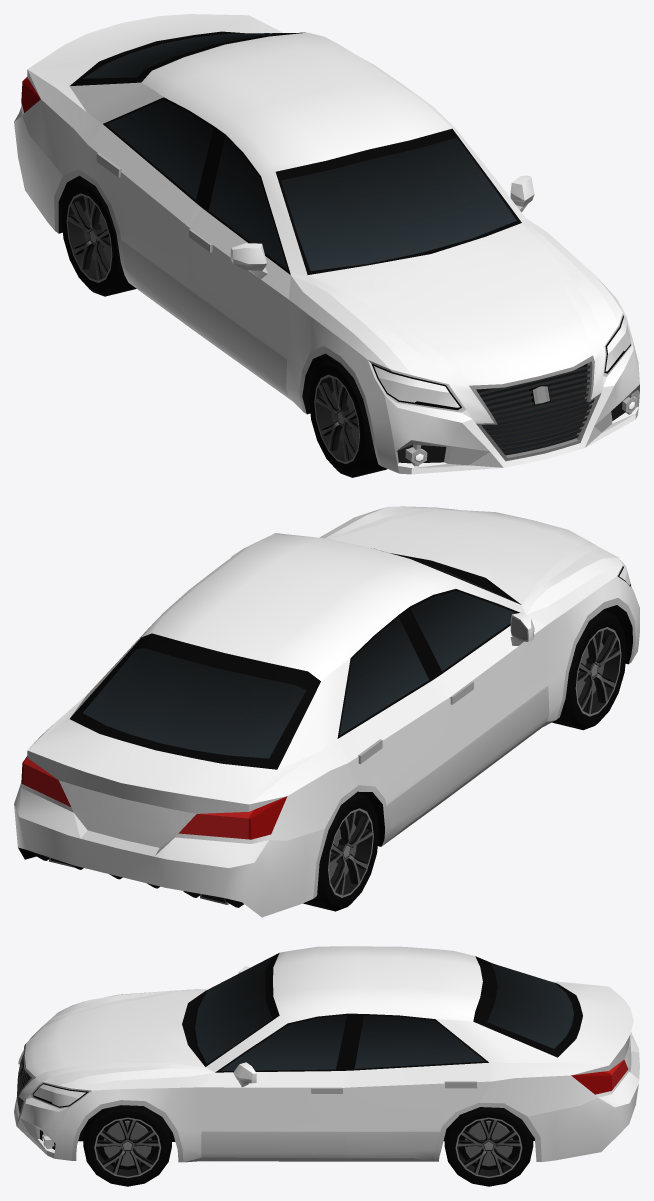
Rendered from Simple_Japanese_Car_V4.fbx.
3 renders of one model, top to bottom at view 1: azimuth 30°, elevation 25°; view 2: azimuth 150°, elevation 25°; view 3: azimuth 270°, elevation 25°, orthographic. The views are drawn at different scales.
Visible parts, largest first — view 1: Body, FR, RR; view 2: Body, FR, RR; view 3: Body, FL, RL.
Part boxes in pixels (bbox=[...]): Body: bbox=[14, 14, 639, 474]; FR: bbox=[309, 358, 386, 477]; RR: bbox=[61, 177, 136, 296]; Body: bbox=[14, 506, 639, 917]; FR: bbox=[552, 610, 626, 730]; RR: bbox=[303, 792, 378, 911]; Body: bbox=[14, 946, 639, 1162]; FL: bbox=[83, 1105, 171, 1186]; RL: bbox=[444, 1107, 533, 1186].
Bounding box in the file's own units: 1.99 × 1.49 × 4.93.
2 materials, 2 textured.
